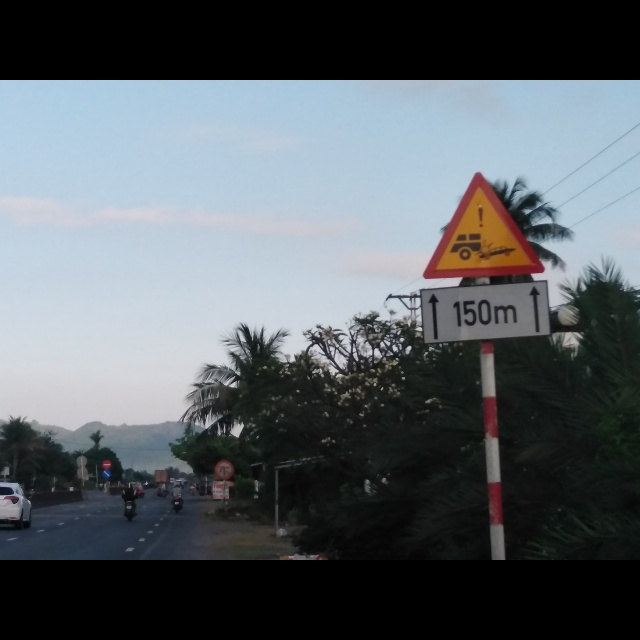Đoạn đường hay xảy ra tai nạn: (421, 168, 545, 280)
